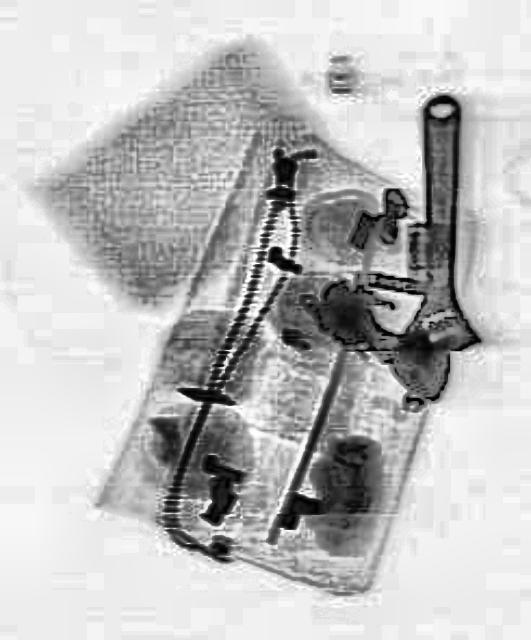Wrench: (387, 92, 481, 398)
